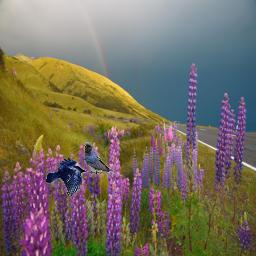Crow: (46, 157, 86, 196)
Swallow: (84, 142, 120, 182)
